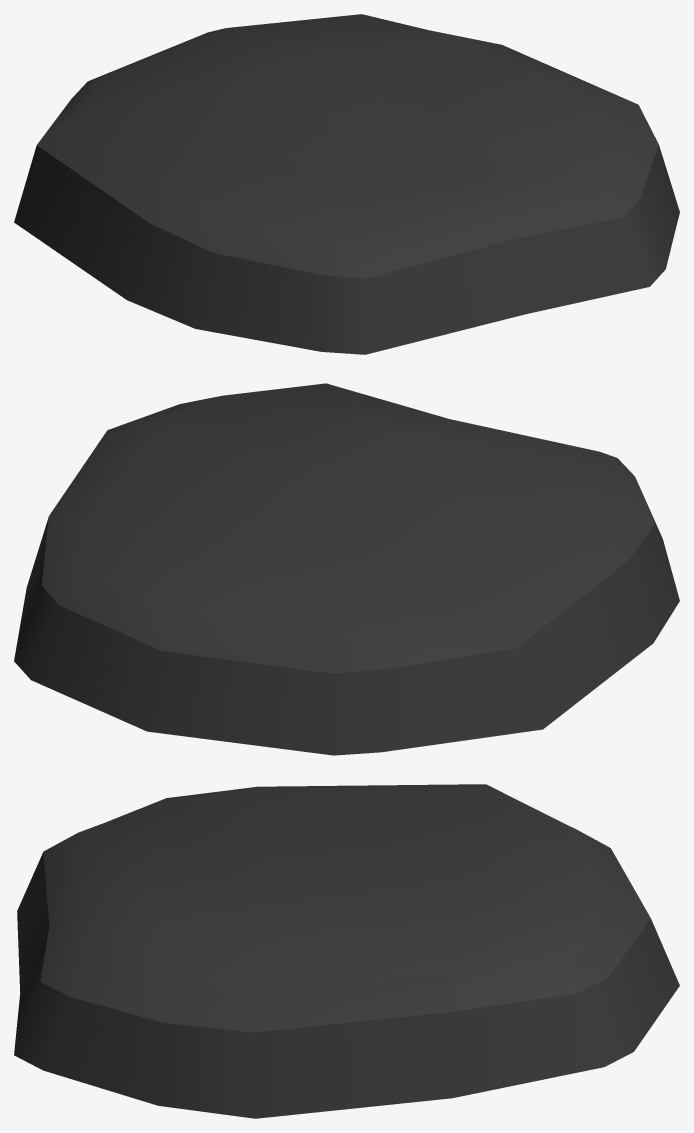
Rendered from Brick_4_2.glb.
3 views of the same model, one above another, from view 1: azimuth 30°, elevation 25°; view 2: azimuth 150°, elevation 25°; view 3: azimuth 270°, elevation 25° (orthographic). The views are drawn at different scales.
Visible parts, largest first — view 1: Brick_4_2; view 2: Brick_4_2; view 3: Brick_4_2.
Part boxes in pixels (left/top/right/bottom): Brick_4_2: left=14, top=14, right=679, bottom=354; Brick_4_2: left=14, top=383, right=679, bottom=755; Brick_4_2: left=14, top=784, right=679, bottom=1118.
Size of the model in its own units: 0.4222 by 0.0674 by 0.4356.
Materials: 1 (1 with a texture image).
